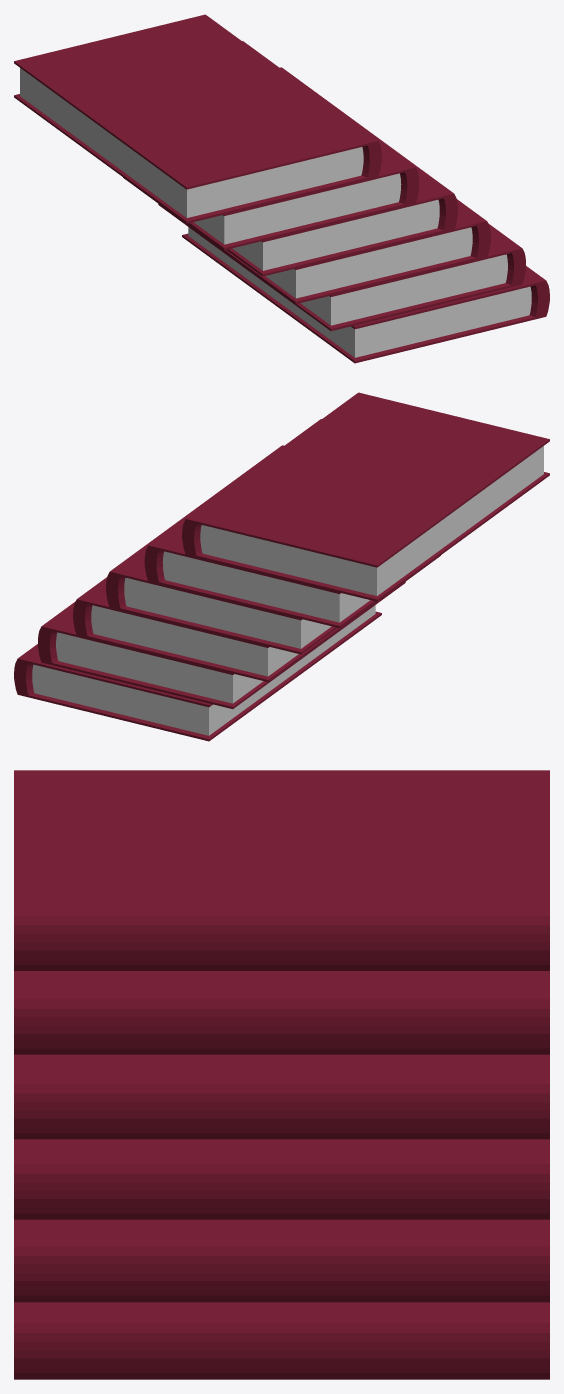
File: LV2_BookStairs.fbx
3 views of the same model, one above another, from view 1: azimuth 30°, elevation 25°; view 2: azimuth 150°, elevation 25°; view 3: azimuth 270°, elevation 25° (orthographic). The views are drawn at different scales.
Visible parts, largest first — view 1: pCube8; view 2: pCube8; view 3: pCube8.
Part boxes in pixels (bbox=[...]): pCube8: bbox=[14, 14, 549, 363]; pCube8: bbox=[14, 392, 549, 741]; pCube8: bbox=[14, 770, 549, 1379].
Bounding box in the file's own units: 1.08 × 0.6181 × 0.8918.
